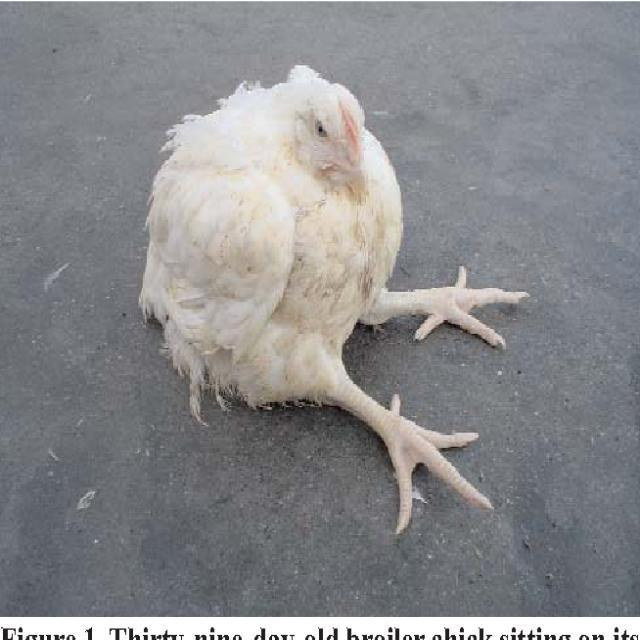AbNormal: (143, 64, 530, 535)
